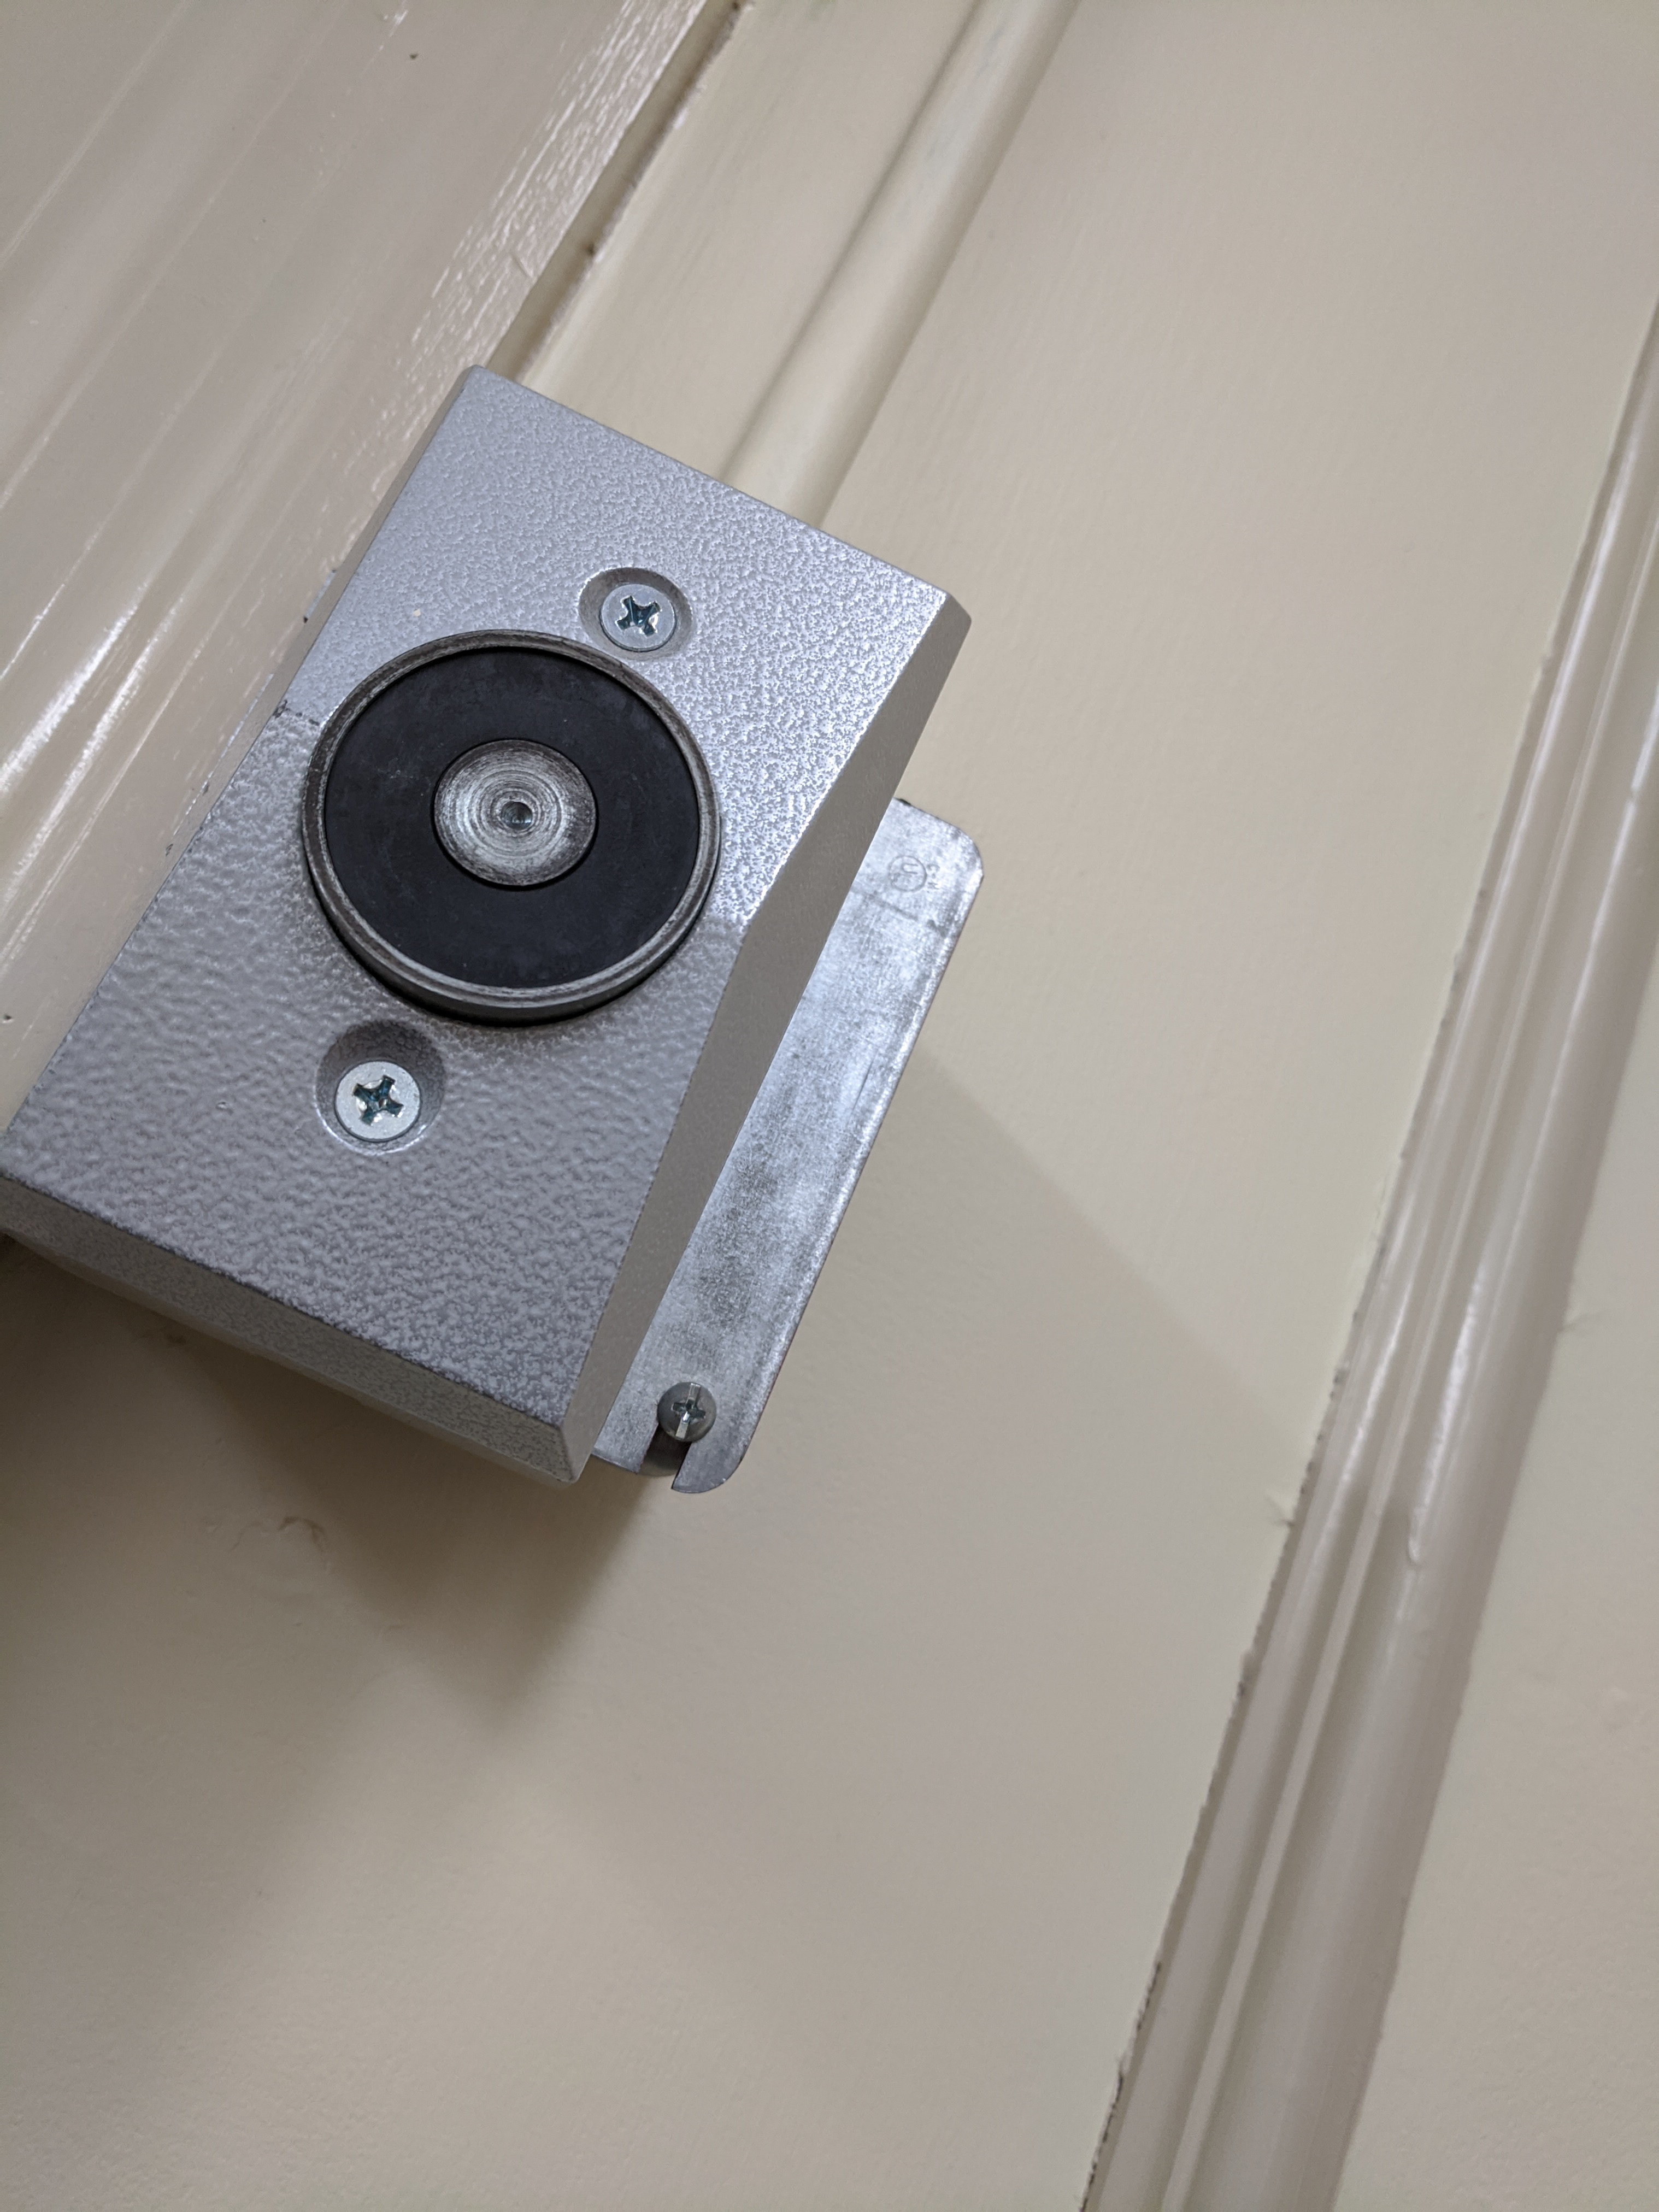cross_recessed_screw: (315, 1038, 436, 1148), (587, 568, 687, 655), (653, 1367, 727, 1458)
